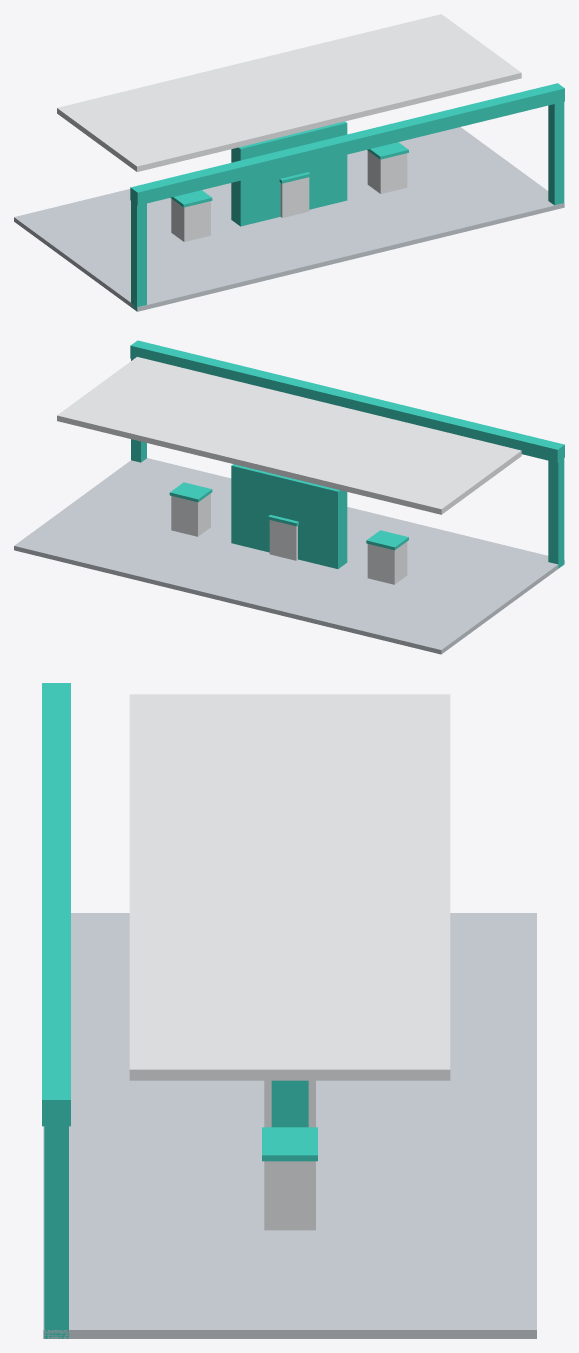
3 renders of one model, top to bottom at view 1: azimuth 30°, elevation 25°; view 2: azimuth 150°, elevation 25°; view 3: azimuth 270°, elevation 25°, orthographic. The views are drawn at different scales.
Parts seen in each view (by area): view 1: Exhibition Booth Concept; view 2: Exhibition Booth Concept; view 3: Exhibition Booth Concept.
Boxes of the visible parts, x1,y1,x2,y2 form: Exhibition Booth Concept: (14,14,564,311); Exhibition Booth Concept: (14,340,564,654); Exhibition Booth Concept: (42,683,536,1338).
Bounding box in the file's own units: 12 × 3.34 × 6.02.
